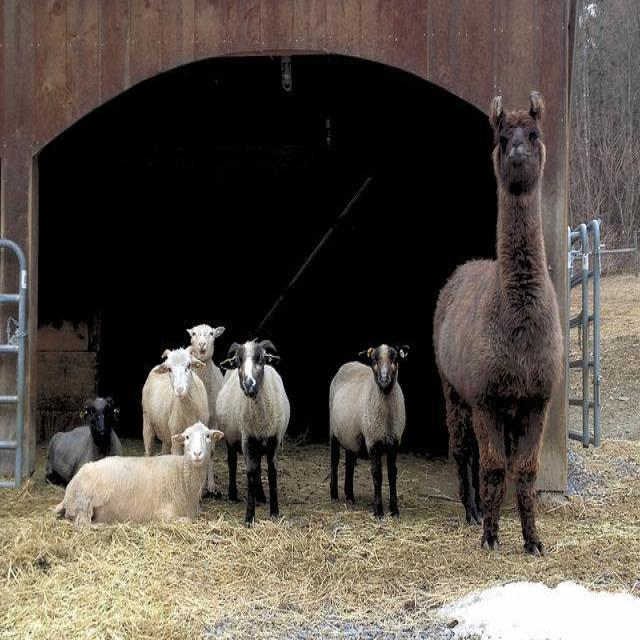Sheep: (50, 416, 229, 533), (211, 338, 289, 522), (329, 344, 411, 516), (141, 348, 212, 456), (45, 396, 123, 485), (187, 324, 226, 407)
